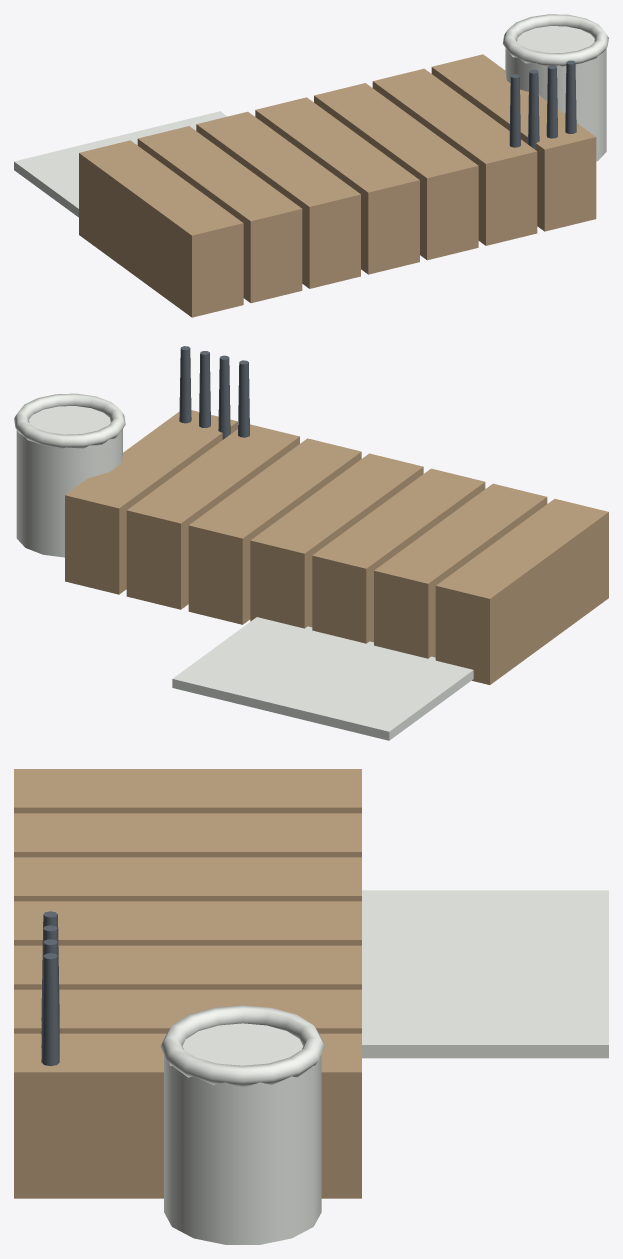
Rendered from supply_set01.glb.
3 views of the same model, one above another, from view 1: azimuth 30°, elevation 25°; view 2: azimuth 150°, elevation 25°; view 3: azimuth 270°, elevation 25° (orthographic). The views are drawn at different scales.
Parts seen in each view (by area): view 1: books, cup, paper, pens, cup_rim; view 2: books, paper, cup, pens, cup_rim; view 3: books, paper, cup, cup_rim, pens.
Boxes of the visible parts, box(x1,y1,x2,y2) form: books: box(79, 54, 596, 317); cup: box(505, 26, 606, 161); paper: box(14, 111, 226, 217); pens: box(509, 60, 576, 149); cup_rim: box(502, 14, 608, 66); books: box(65, 410, 608, 684); paper: box(172, 617, 473, 740); cup: box(16, 406, 122, 557); pens: box(179, 346, 249, 439); cup_rim: box(14, 393, 125, 448); books: box(14, 769, 361, 1198); paper: box(362, 890, 608, 1058); cup: box(164, 1023, 321, 1244); cup_rim: box(160, 1005, 324, 1087); pens: box(41, 911, 59, 1066).
Size of the model in its own units: 0.47 by 0.14 by 0.325.
